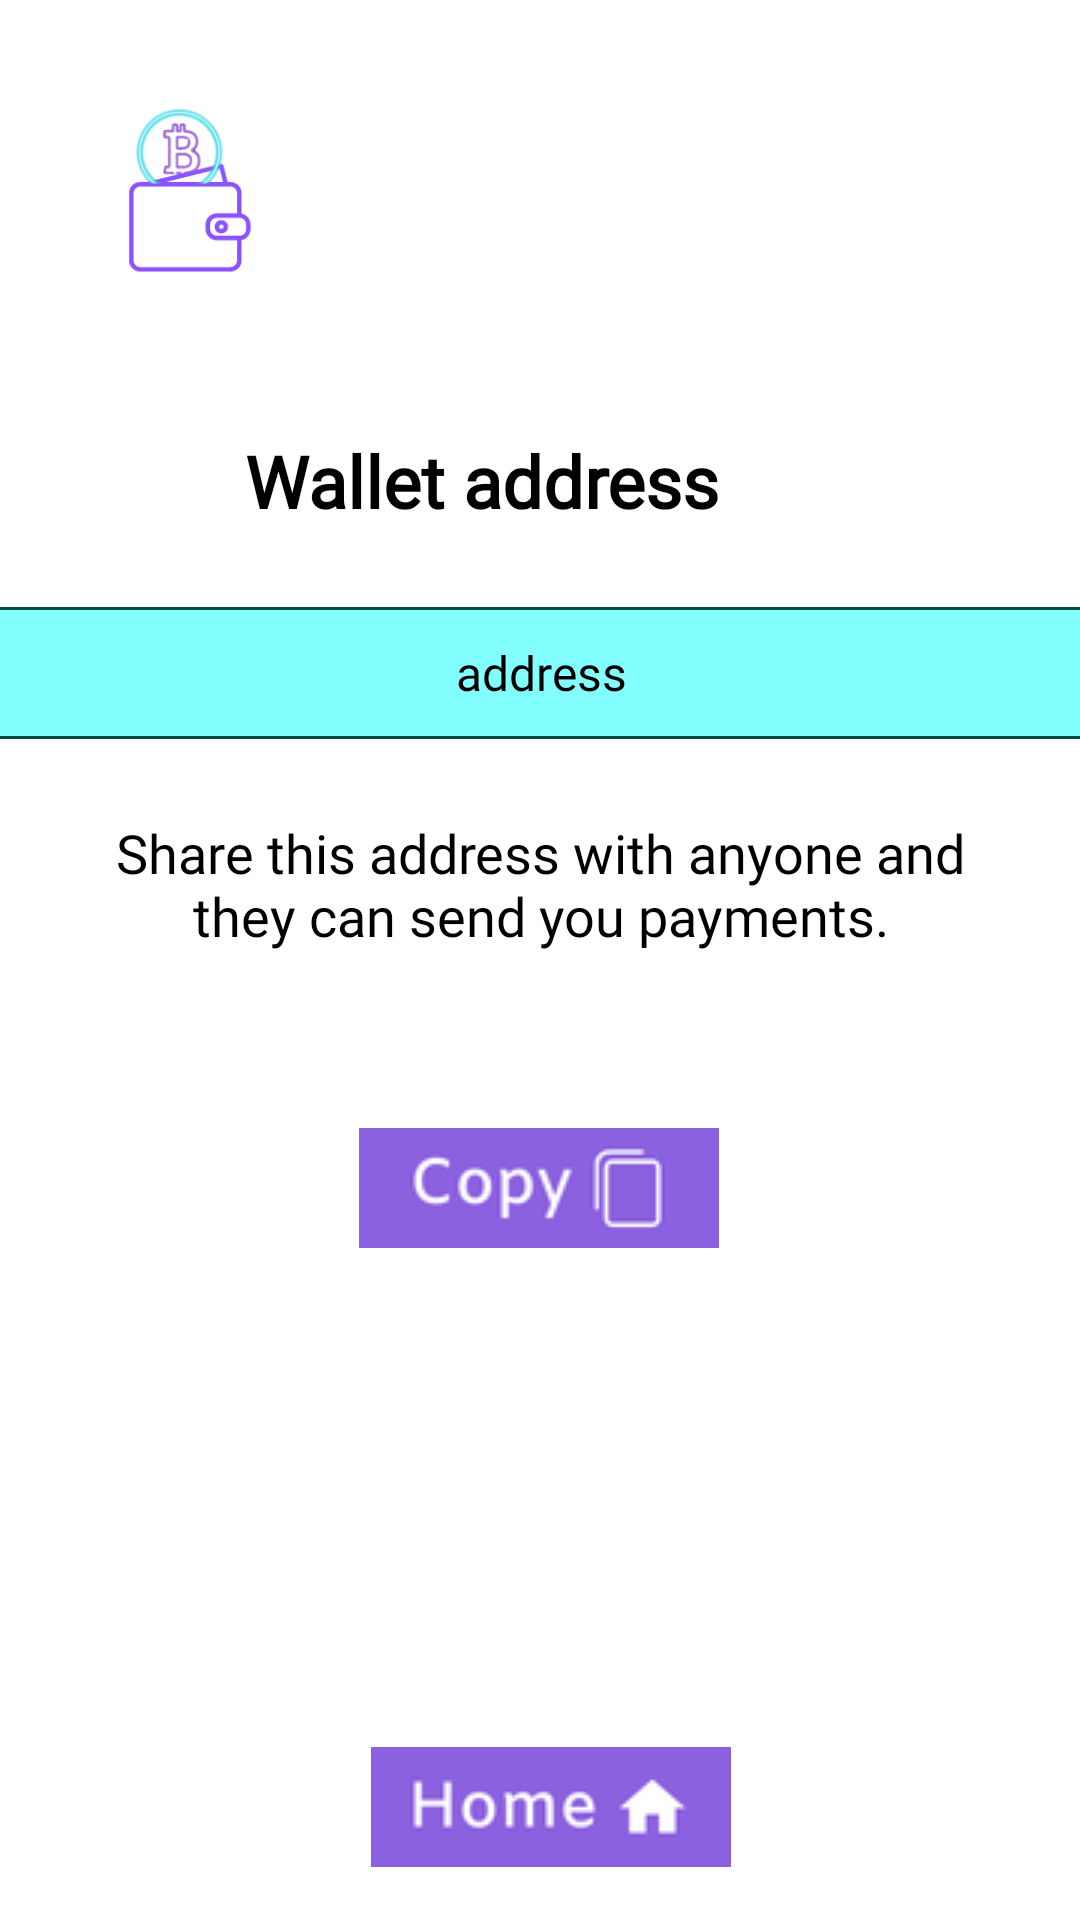

Where icons sit on this 1080px×1920px app screen, as (x1, y1, x2, y2):
softcoinicon: (129, 109, 251, 272)
